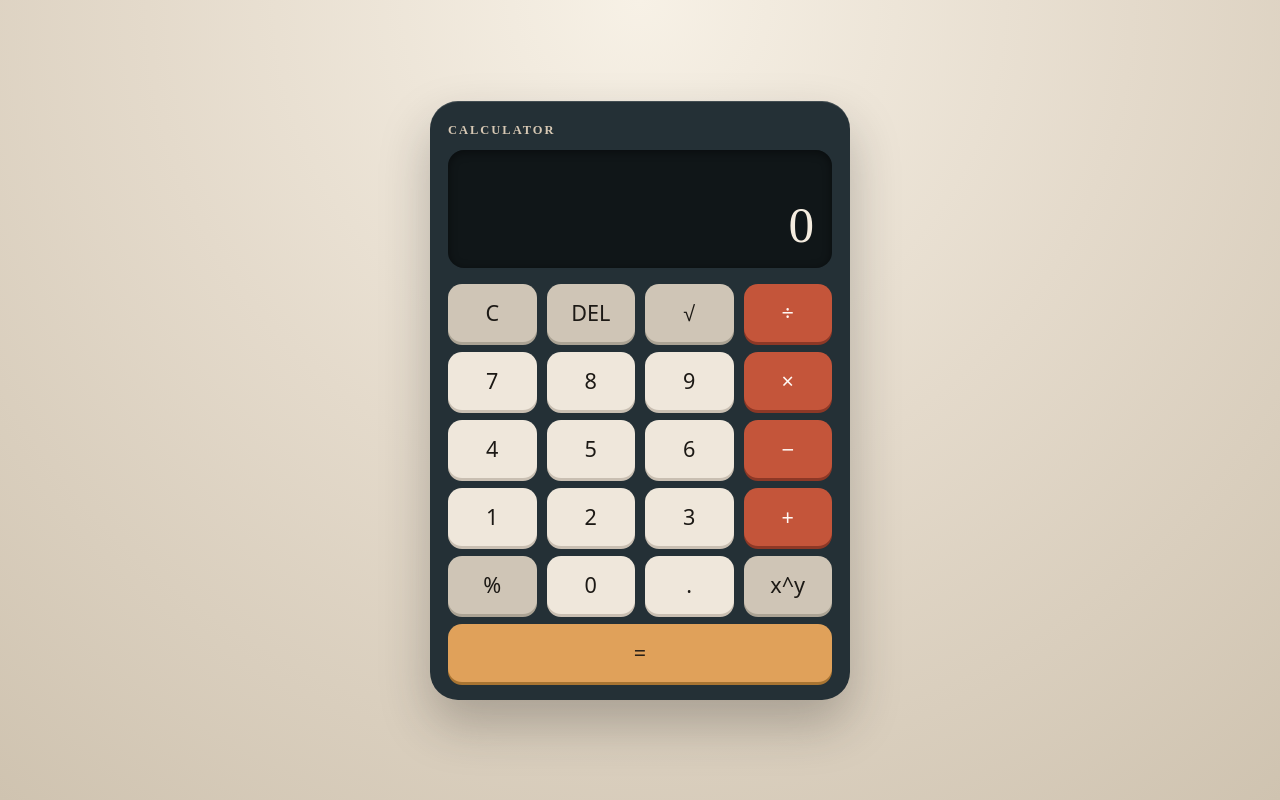
Test: shows the API result instead of calculating locally
The image size is (1280, 800).
Click the button "1": (492, 516) [448,488,536,546]
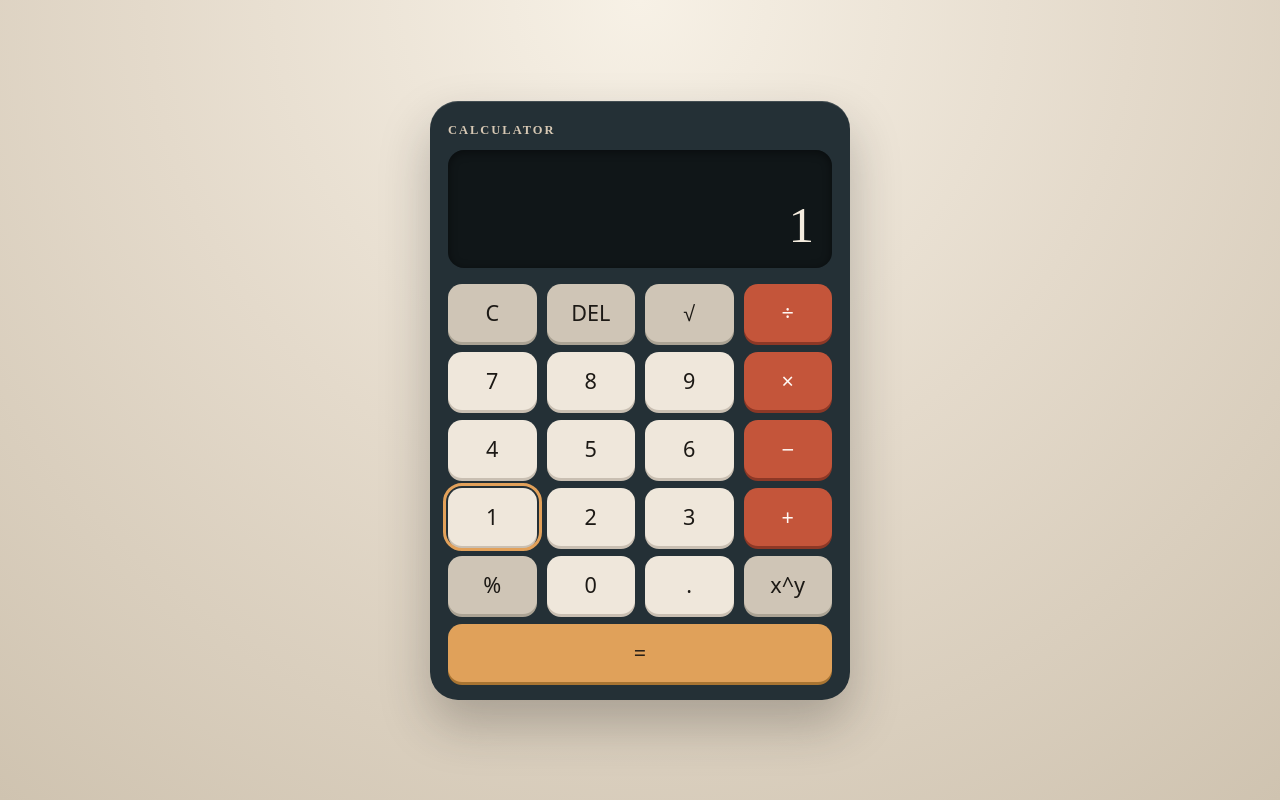
Click the button "9": (689, 380) [645,352,734,410]
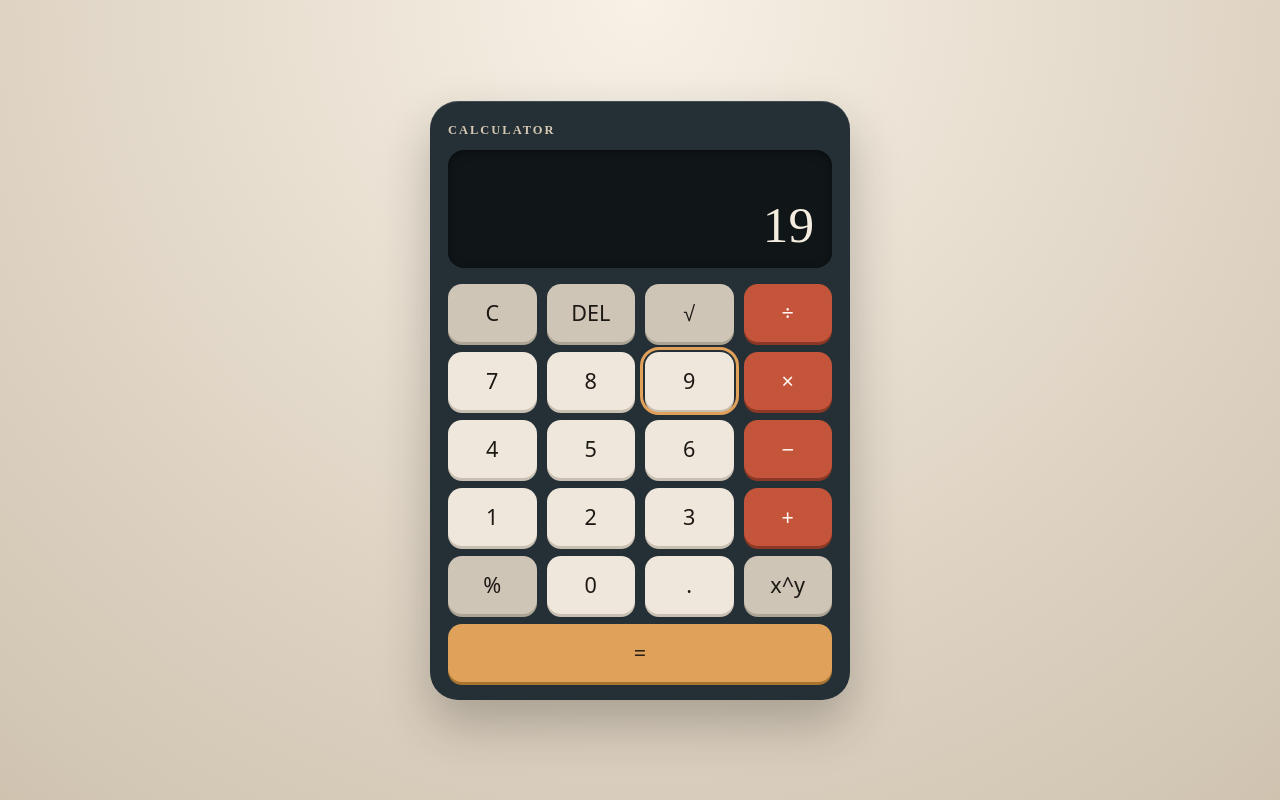
Click the button named "Add": (788, 516) [744,488,832,546]
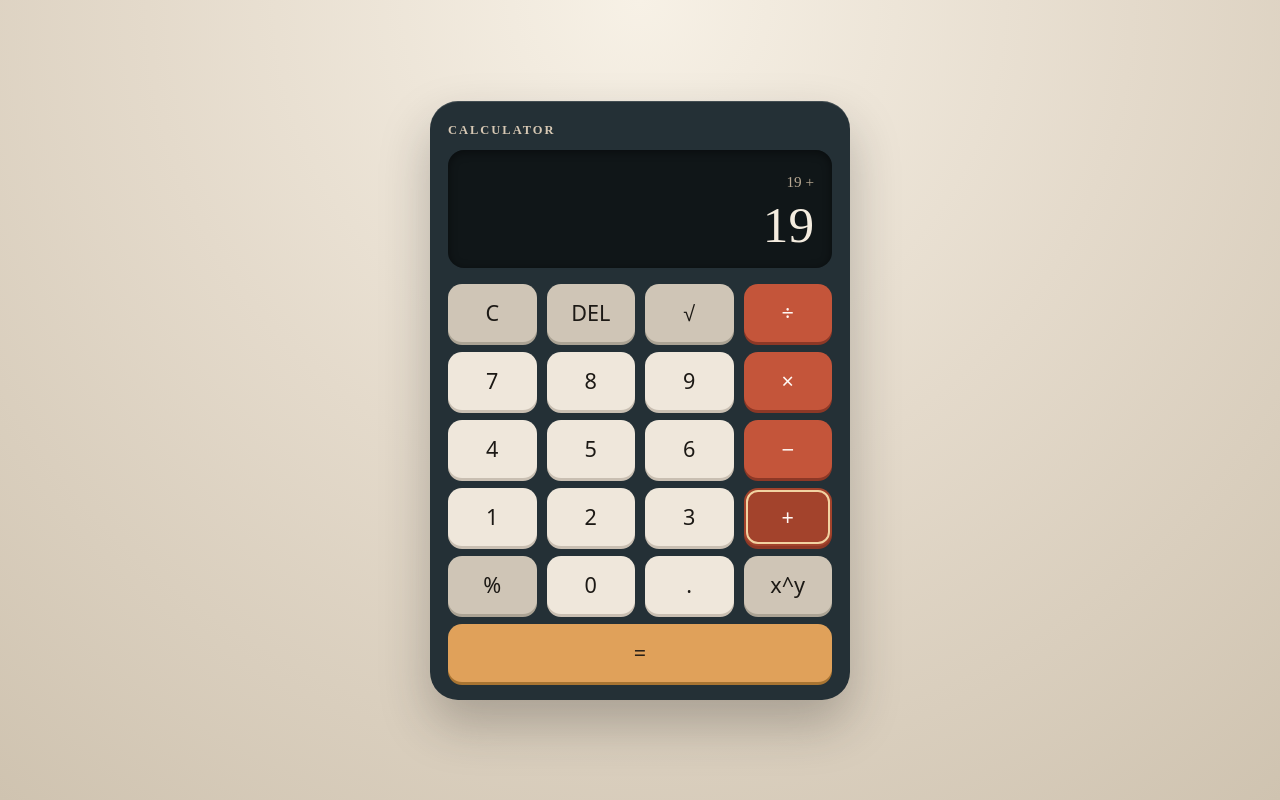
Click the button "9": (689, 380) [645,352,734,410]
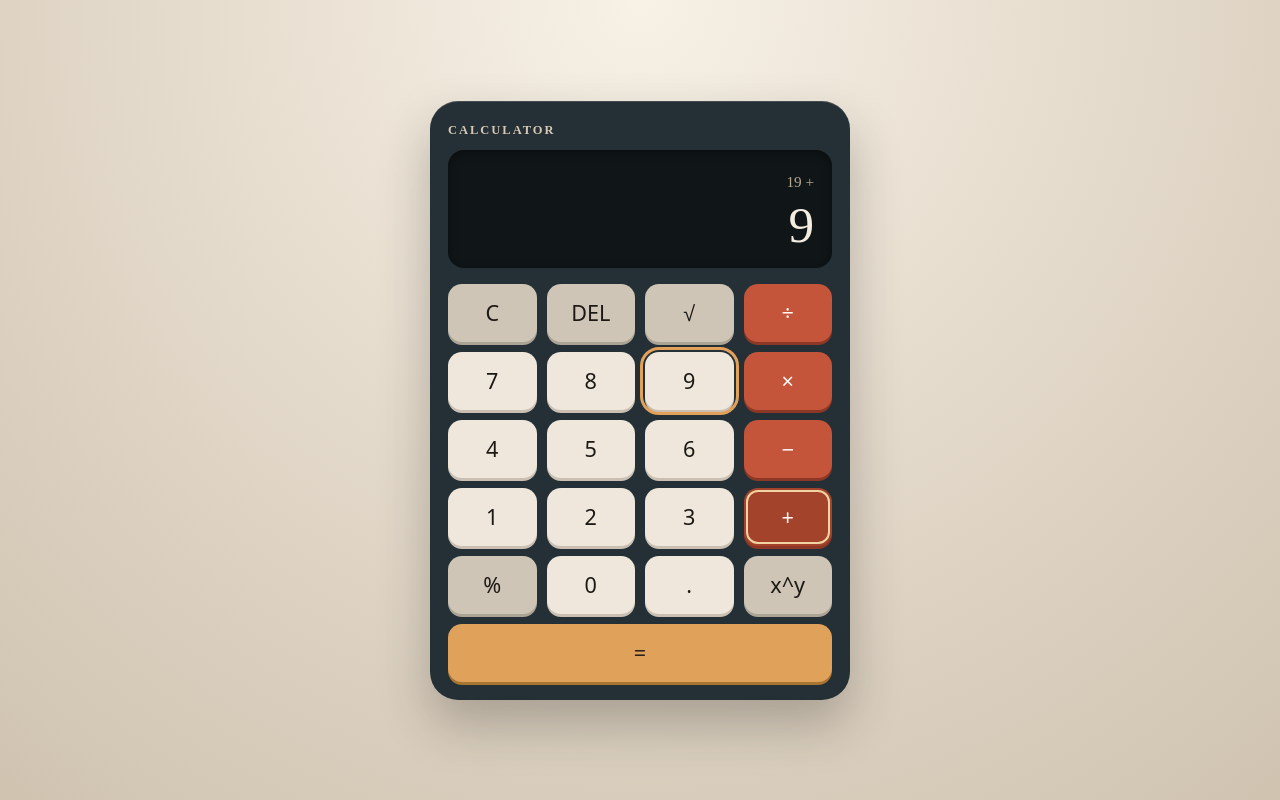
Click the button named "Equals": (640, 652) [448,624,832,682]
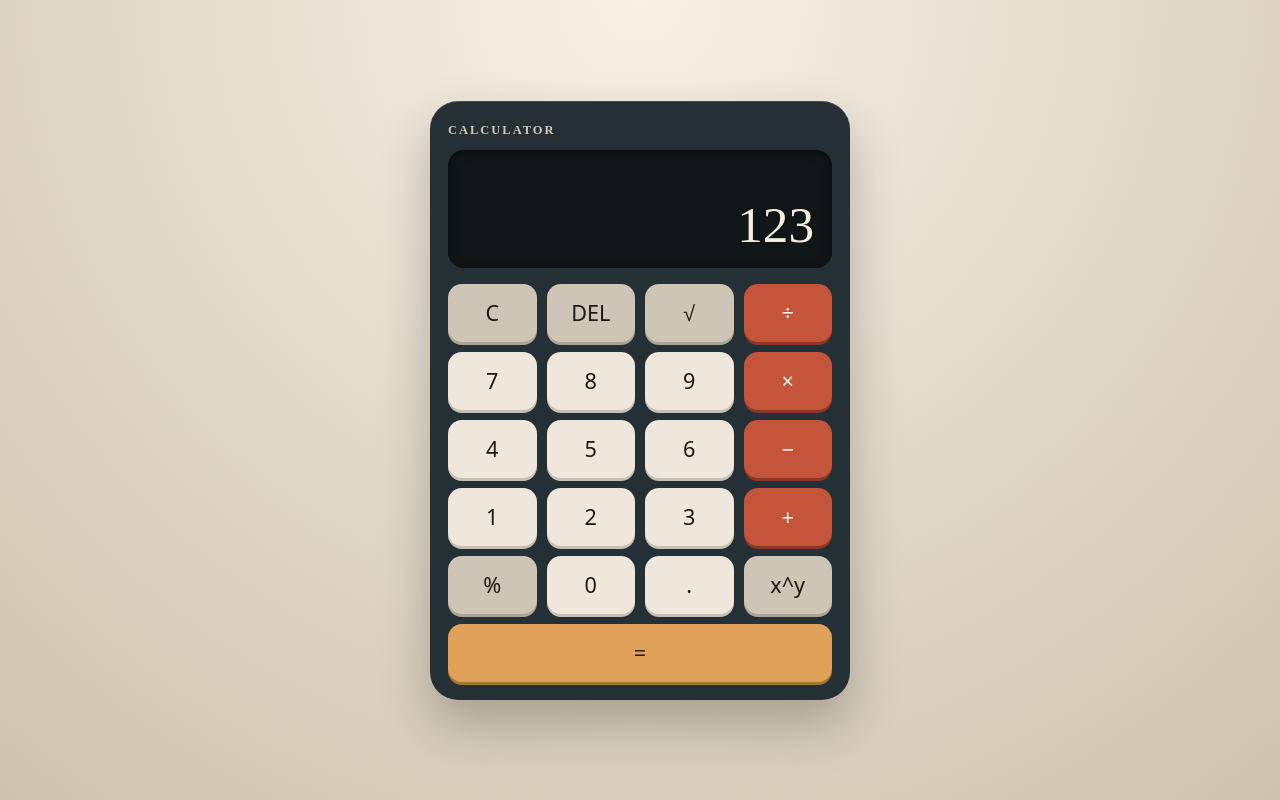
Expected: the text named "Result" reads "123", [737,196,814,253]
